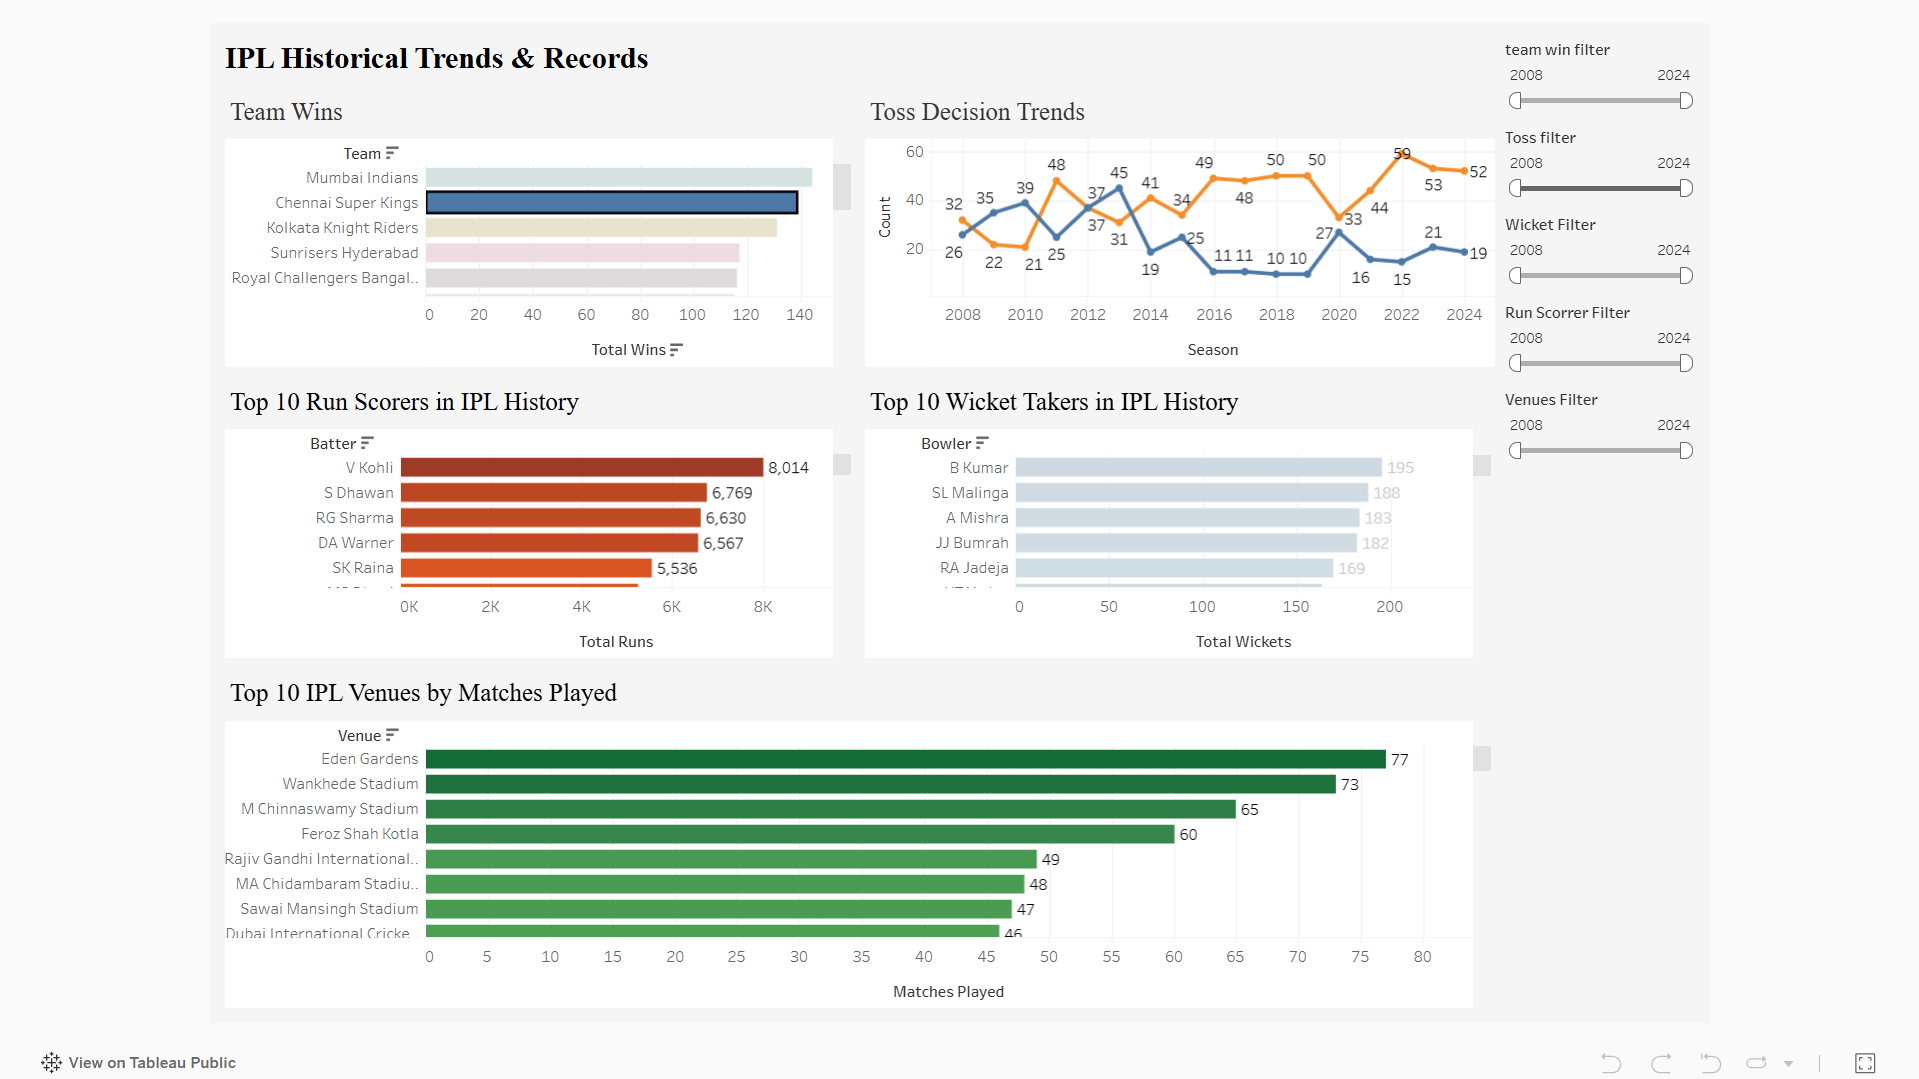

What the dashboard file says about the page in this screenshot:
{"tool":"tableau","page":{"name":"IPL HISTORICAL TRENDS AND RECORDS","canvas":[1200,800],"ordinal":0},"visuals":[{"type":"title","box":[8,8,1024,39]},{"type":"filter","title":"Team Wins","param":"[federated.13sley00jj4efu13fqfzx1lt7uq7].[none:season:qk]","box":[1032,8,160,73]},{"type":"worksheet","title":"Team Wins","mark":"Automatic","rows":["team"],"cols":["total_wins"],"box":[8,47,512,232.5]},{"type":"worksheet","title":"Toss Decision Trends","mark":"Line","rows":["count"],"cols":["season"],"box":[520,47,512,232.5]},{"type":"filter","title":"Toss Decision Trends","param":"[federated.12ycsbc1165bfu1c5brwr0qdzet9].[none:season:qk]","box":[1032,81,160,73]},{"type":"filter","title":"Top Bowlers","param":"[federated.0eara8y1colnzi1azkps70x1ixn9].[none:season:qk]","box":[1032,154,160,73]},{"type":"filter","title":"Top Batsmen","param":"[federated.0y5rk2j1uaqbqp1bvolqz11f3a07].[none:season:qk]","box":[1032,227,160,73]},{"type":"worksheet","title":"Top Batsmen","mark":"Automatic","rows":["batter"],"cols":["total_runs"],"box":[8,279.5,512,232.5]},{"type":"worksheet","title":"Top Bowlers","mark":"Automatic","rows":["bowler"],"cols":["total_wickets"],"box":[520,279.5,512,232.5]},{"type":"filter","title":"Top Venues","param":"[federated.15w11x9020i8bp1flqb6o0me26co].[none:season:qk]","box":[1032,300,160,73]},{"type":"worksheet","title":"Top Venues","mark":"Automatic","rows":["venue"],"cols":["matches_played"],"box":[8,512,1024,280]}]}

Visuals, with their boxes on the page's 1200x800 design canvas (x1, y1, x2, y2). These are canvas units, not pixel positions in the 1919x1079 screenshot, which may show the page scaled, cropped or inside an application window:
title: l=8, t=8, r=1032, b=47
"Team Wins" filter: l=1032, t=8, r=1192, b=81
"Team Wins" worksheet: l=8, t=47, r=520, b=280
"Toss Decision Trends" worksheet (Line marks): l=520, t=47, r=1032, b=280
"Toss Decision Trends" filter: l=1032, t=81, r=1192, b=154
"Top Bowlers" filter: l=1032, t=154, r=1192, b=227
"Top Batsmen" filter: l=1032, t=227, r=1192, b=300
"Top Batsmen" worksheet: l=8, t=280, r=520, b=512
"Top Bowlers" worksheet: l=520, t=280, r=1032, b=512
"Top Venues" filter: l=1032, t=300, r=1192, b=373
"Top Venues" worksheet: l=8, t=512, r=1032, b=792
